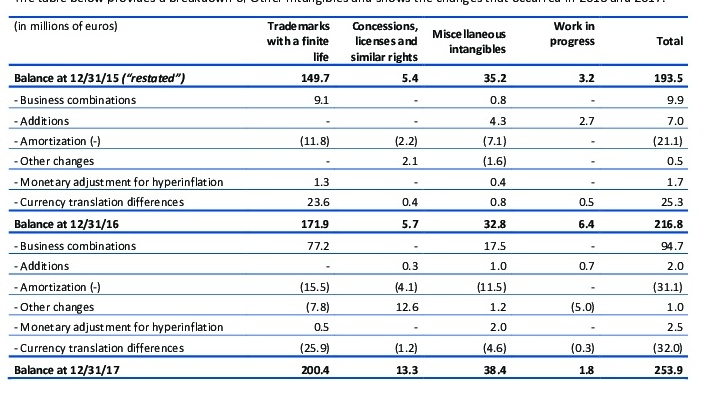table: (0, 0, 707, 394)
